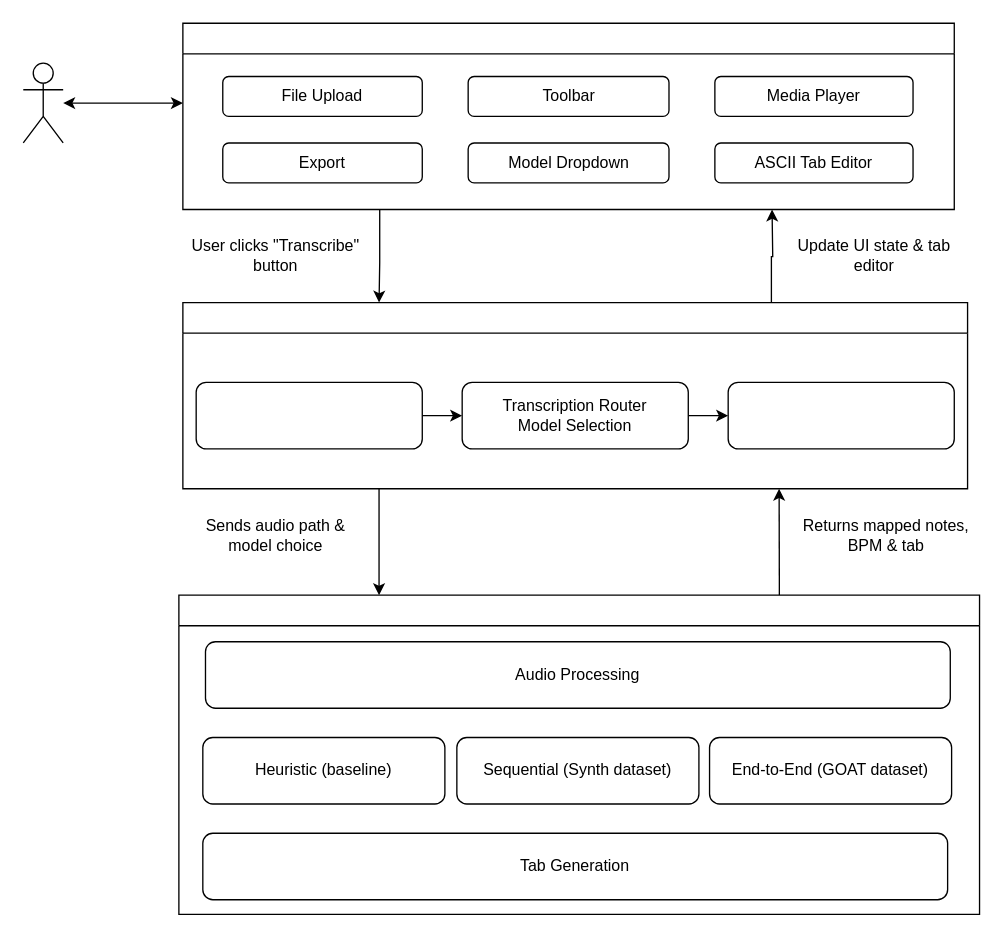
The diagram is 1003 pixels wide and 938 high, and some of its shapes have lost their labels. Here are the shapes that lost their labels. From the top down, the box of each, then its label:
(22, 62, 63, 143): User
(182, 22, 954, 209): View - PySide6 GUI
(195, 381, 422, 449): Event Handle TranscriptionWorker (QThread)
(182, 301, 968, 489): Controller
(727, 381, 954, 449): Refresh Tab Updating position mapping
(178, 594, 980, 914): Model - Backend
